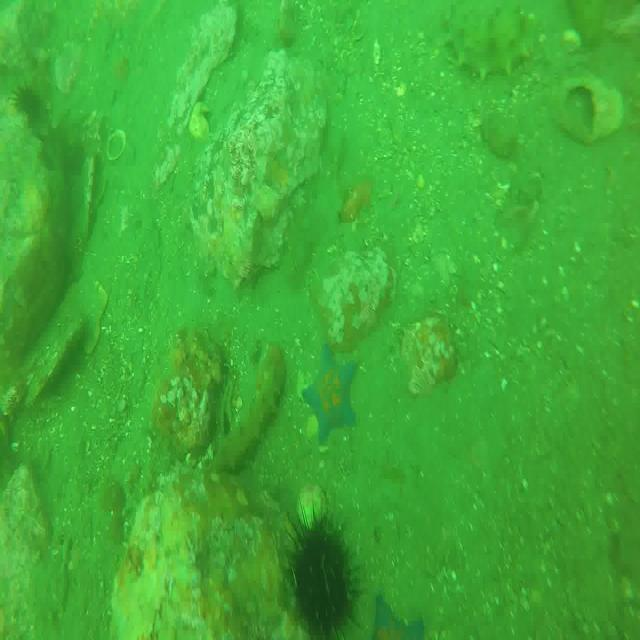echinus: (292, 516, 352, 640), (12, 86, 50, 134)
holothurian: (208, 350, 286, 475), (443, 0, 530, 79)
starfish: (300, 349, 364, 442), (358, 594, 426, 640)
